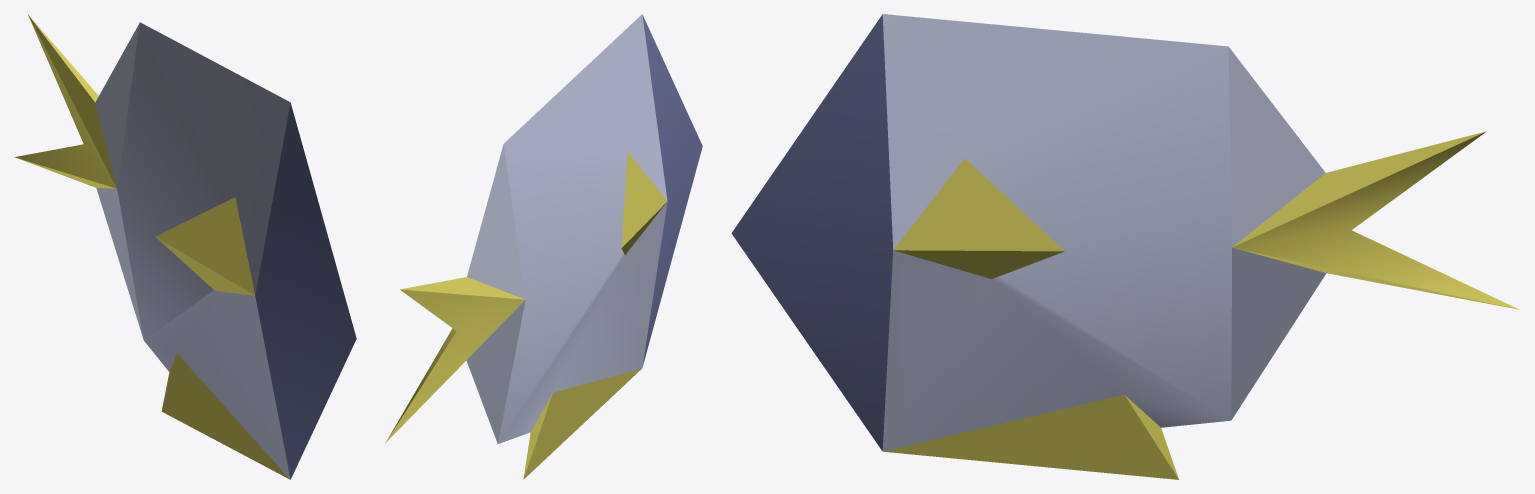
Rendered from FishType_Flat_2.fbx.
3 views of the same model, side by side, from view 1: azimuth 30°, elevation 25°; view 2: azimuth 150°, elevation 25°; view 3: azimuth 270°, elevation 25° (orthographic). The views are drawn at different scales.
Parts seen in each view (by area): view 1: FishType_Flat_2; view 2: FishType_Flat_2; view 3: FishType_Flat_2.
Part boxes in pixels (x1,y1,x2,y2): FishType_Flat_2: (14, 15, 356, 479); FishType_Flat_2: (385, 14, 702, 479); FishType_Flat_2: (731, 14, 1519, 479).
Size of the model in its own units: 0.4345 by 1.51 by 2.31.
Materials: 1 (1 with a texture image).
